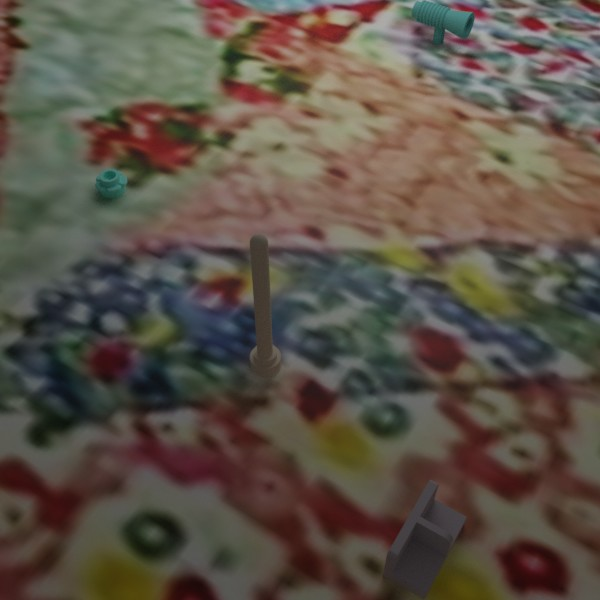lego: (382, 479, 466, 599), (249, 233, 281, 378), (411, 0, 474, 44), (95, 168, 127, 198)
